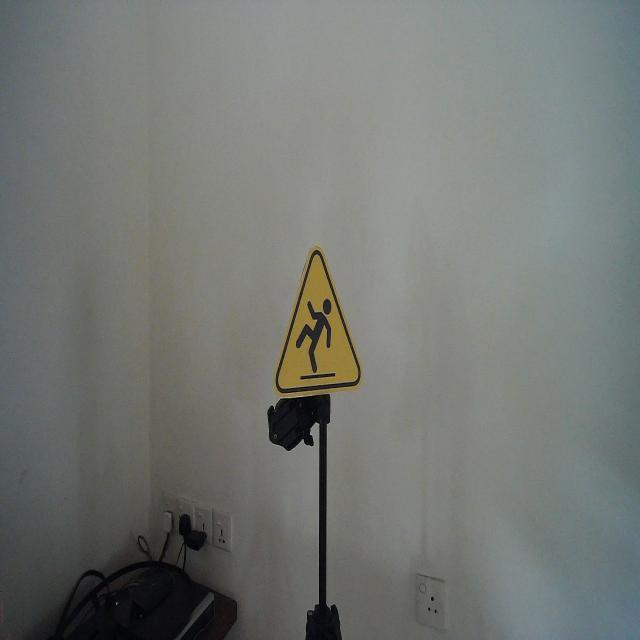slippery_sign: (270, 246, 364, 398)
